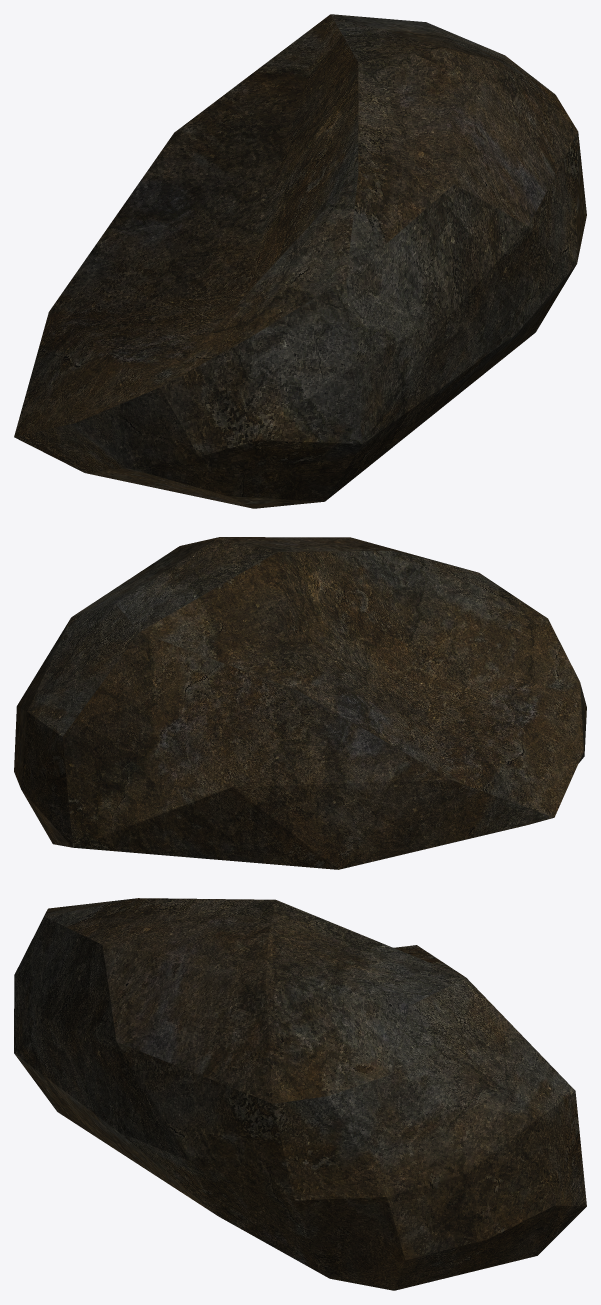
File: stone_1.glb
3 views of the same model, one above another, from view 1: azimuth 30°, elevation 25°; view 2: azimuth 150°, elevation 25°; view 3: azimuth 270°, elevation 25° (orthographic). The views are drawn at different scales.
Parts seen in each view (by area): view 1: stone_1; view 2: stone_1; view 3: stone_1.
Boxes of the visible parts, x1,y1,x2,y2 form: stone_1: (14,14,586,508); stone_1: (14,537,586,869); stone_1: (14,898,586,1290).
Bounding box in the file's own units: 1.52 × 0.8137 × 1.36.
Materials: 1 (1 with a texture image).
